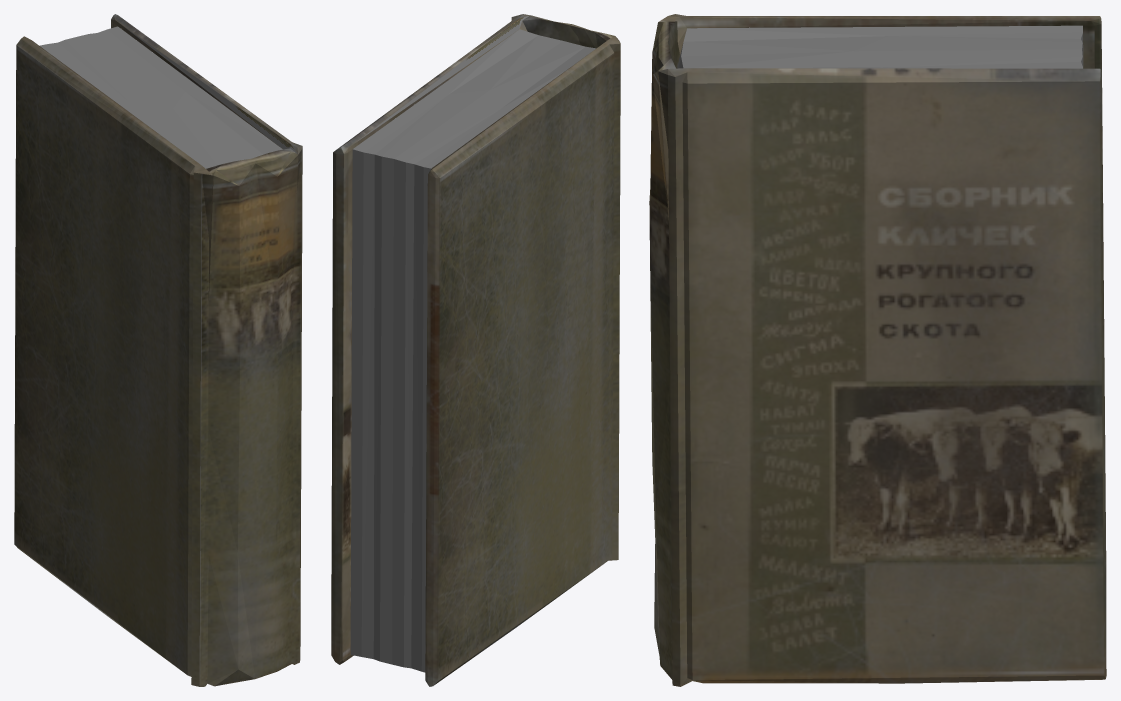
File: phonebook_3_v000.glb
3 renders of one model, left to right at view 1: azimuth 30°, elevation 25°; view 2: azimuth 150°, elevation 25°; view 3: azimuth 270°, elevation 25°, orthographic. The views are drawn at different scales.
Visible parts, largest first — view 1: world; view 2: world; view 3: world.
Part boxes in pixels (x1,y1,x2,y2): world: (14, 14, 302, 686); world: (331, 14, 620, 686); world: (649, 14, 1106, 686).
Bounding box in the file's own units: 0.8033 × 3.67 × 2.46.
1 material, 1 textured.
